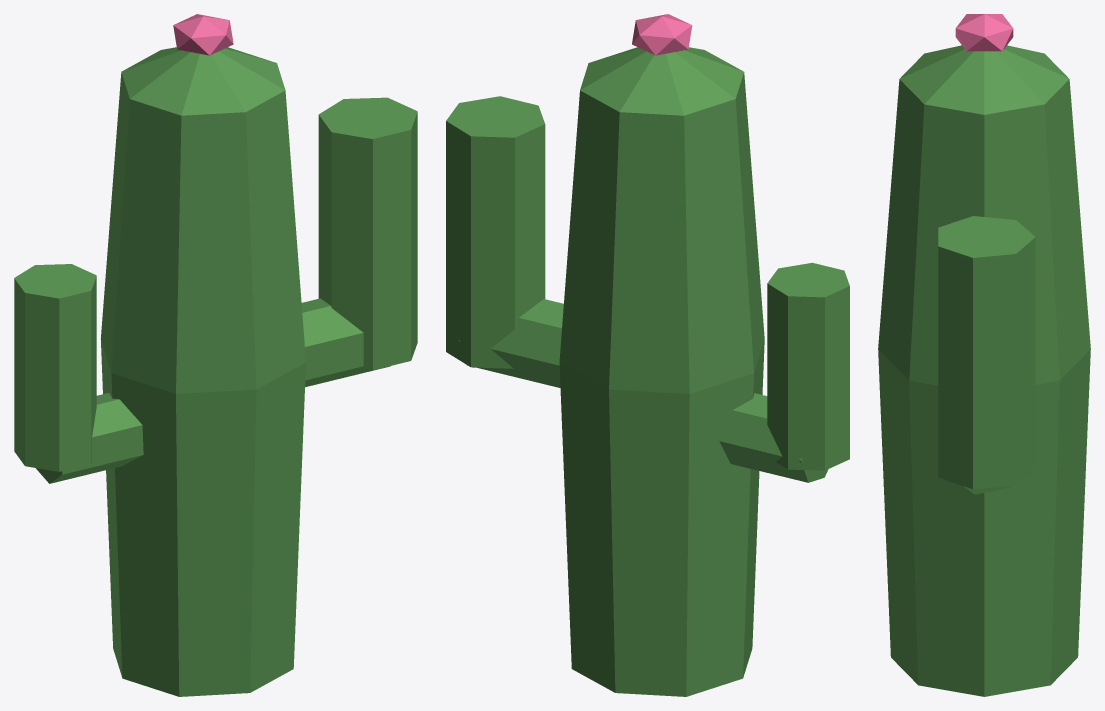
Rendered from nature2_cactus.glb.
3 views of the same model, side by side, from view 1: azimuth 30°, elevation 25°; view 2: azimuth 150°, elevation 25°; view 3: azimuth 270°, elevation 25° (orthographic).
Visible parts, largest first — view 1: cactus; view 2: cactus; view 3: cactus.
Boxes of the visible parts, bbox=[...] form: cactus: bbox=[14, 14, 417, 696]; cactus: bbox=[446, 14, 849, 696]; cactus: bbox=[878, 14, 1090, 696].
Bounding box in the file's own units: 1.06 × 1.67 × 0.5.
